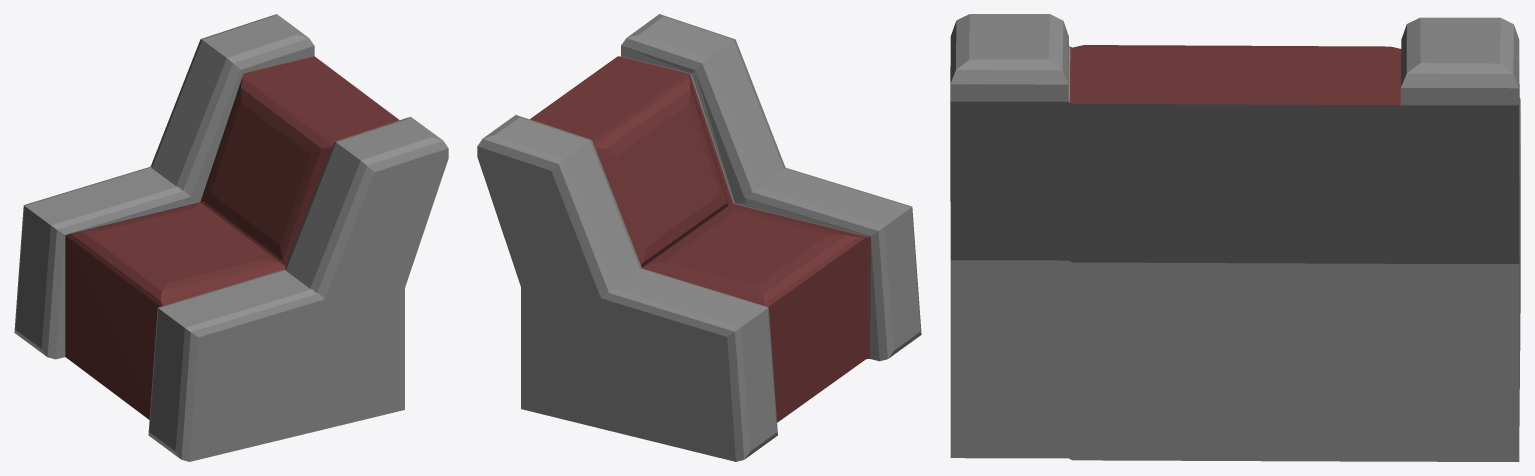
The model's file is Commons_Single_01.fbx.
3 renders of one model, left to right at view 1: azimuth 30°, elevation 25°; view 2: azimuth 150°, elevation 25°; view 3: azimuth 270°, elevation 25°, orthographic. The views are drawn at different scales.
Visible parts, largest first — view 1: Commons; view 2: Commons; view 3: Commons.
Boxes of the visible parts, x1,y1,x2,y2 form: Commons: (14,14,448,461); Commons: (477,14,921,461); Commons: (950,14,1520,461).
Size of the model in its own units: 333 by 304 by 371.
